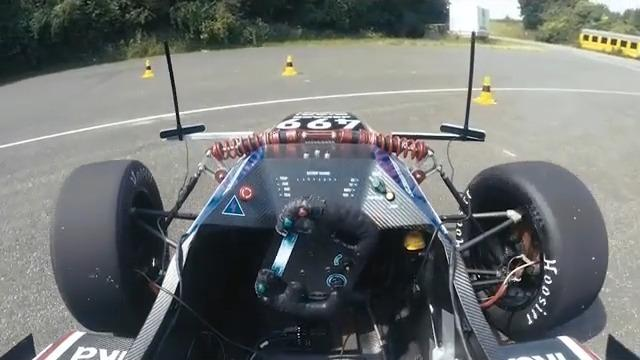yellow_cone: (473, 76, 497, 105), (282, 55, 297, 77), (141, 60, 154, 78)
